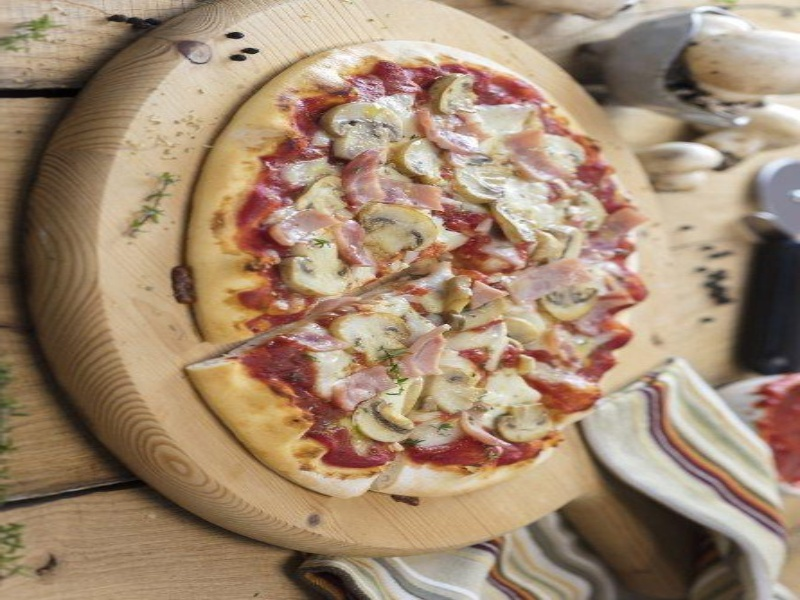champignon: (320, 98, 409, 170), (358, 201, 448, 256), (326, 306, 414, 362), (280, 236, 358, 297)
